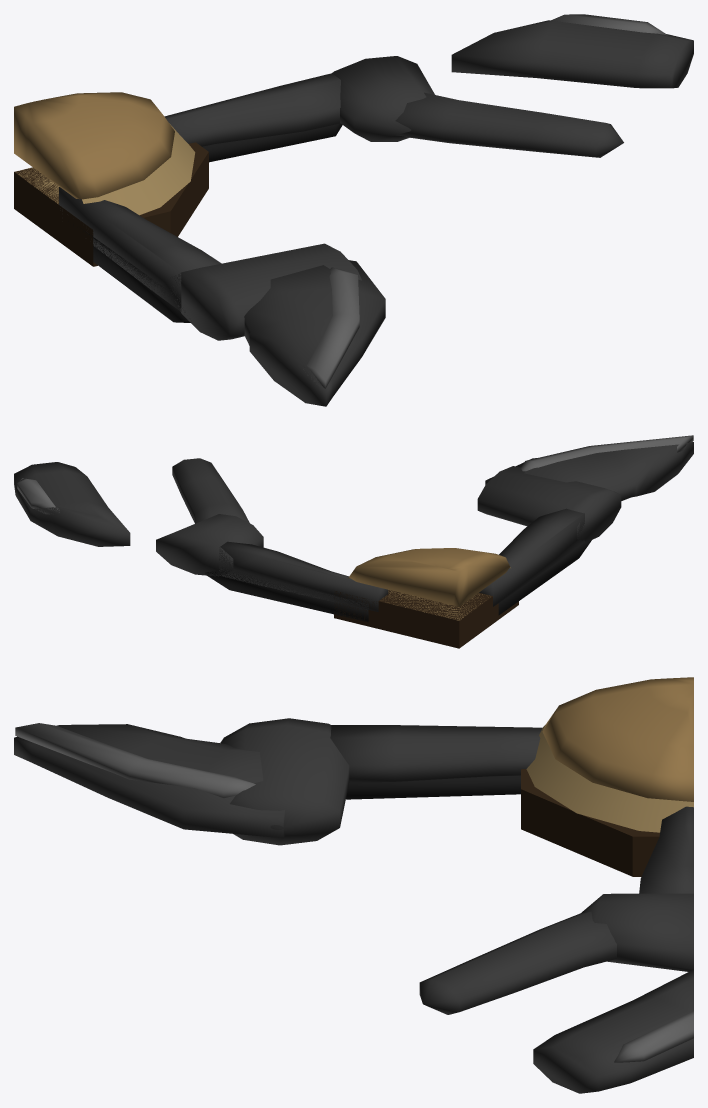
File: newsh-hash-41-f5.glb
The picture shows the model from 3 angles, top to bottom: view 1: azimuth 30°, elevation 25°; view 2: azimuth 150°, elevation 25°; view 3: azimuth 270°, elevation 25°; orthographic projection. The views are drawn at different scales.
Parts seen in each view (by area): view 1: newsh-hash-41-f5; view 2: newsh-hash-41-f5; view 3: newsh-hash-41-f5.
Boxes of the visible parts, x1,y1,x2,y2 form: newsh-hash-41-f5: [14, 14, 693, 406]; newsh-hash-41-f5: [14, 435, 693, 648]; newsh-hash-41-f5: [14, 677, 693, 1093].
Bounding box in the file's own units: 1.8 × 0.2774 × 1.53.
